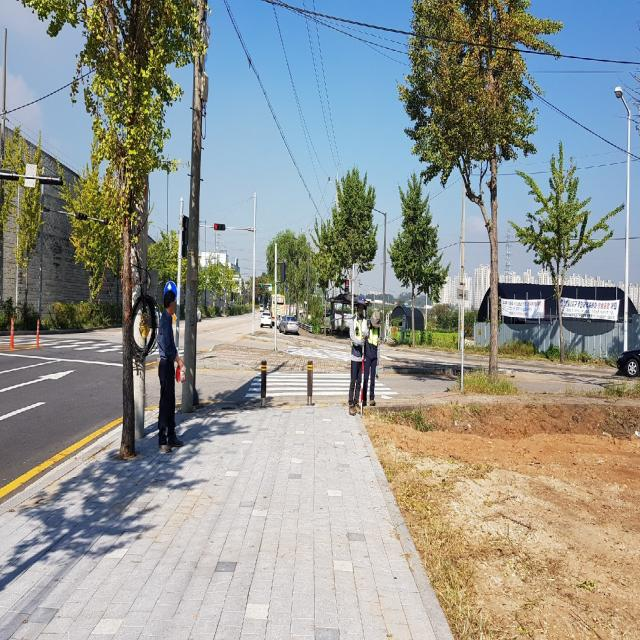횡단보도: (245, 371, 400, 400)
